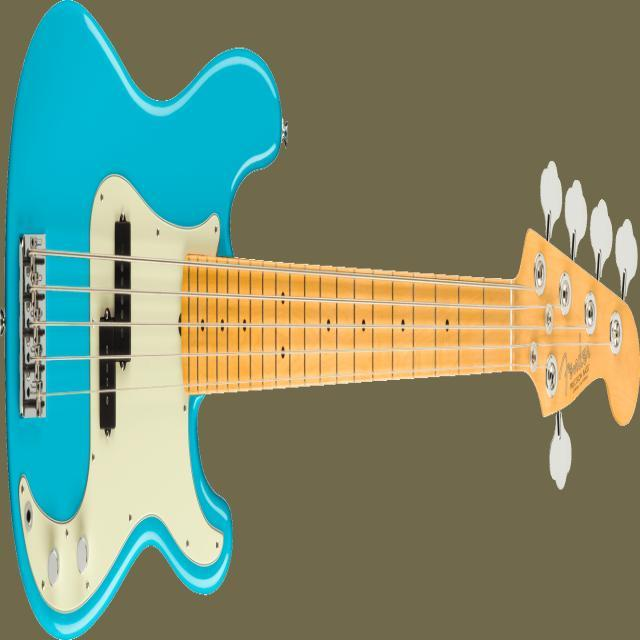bass: (3, 1, 639, 637)
